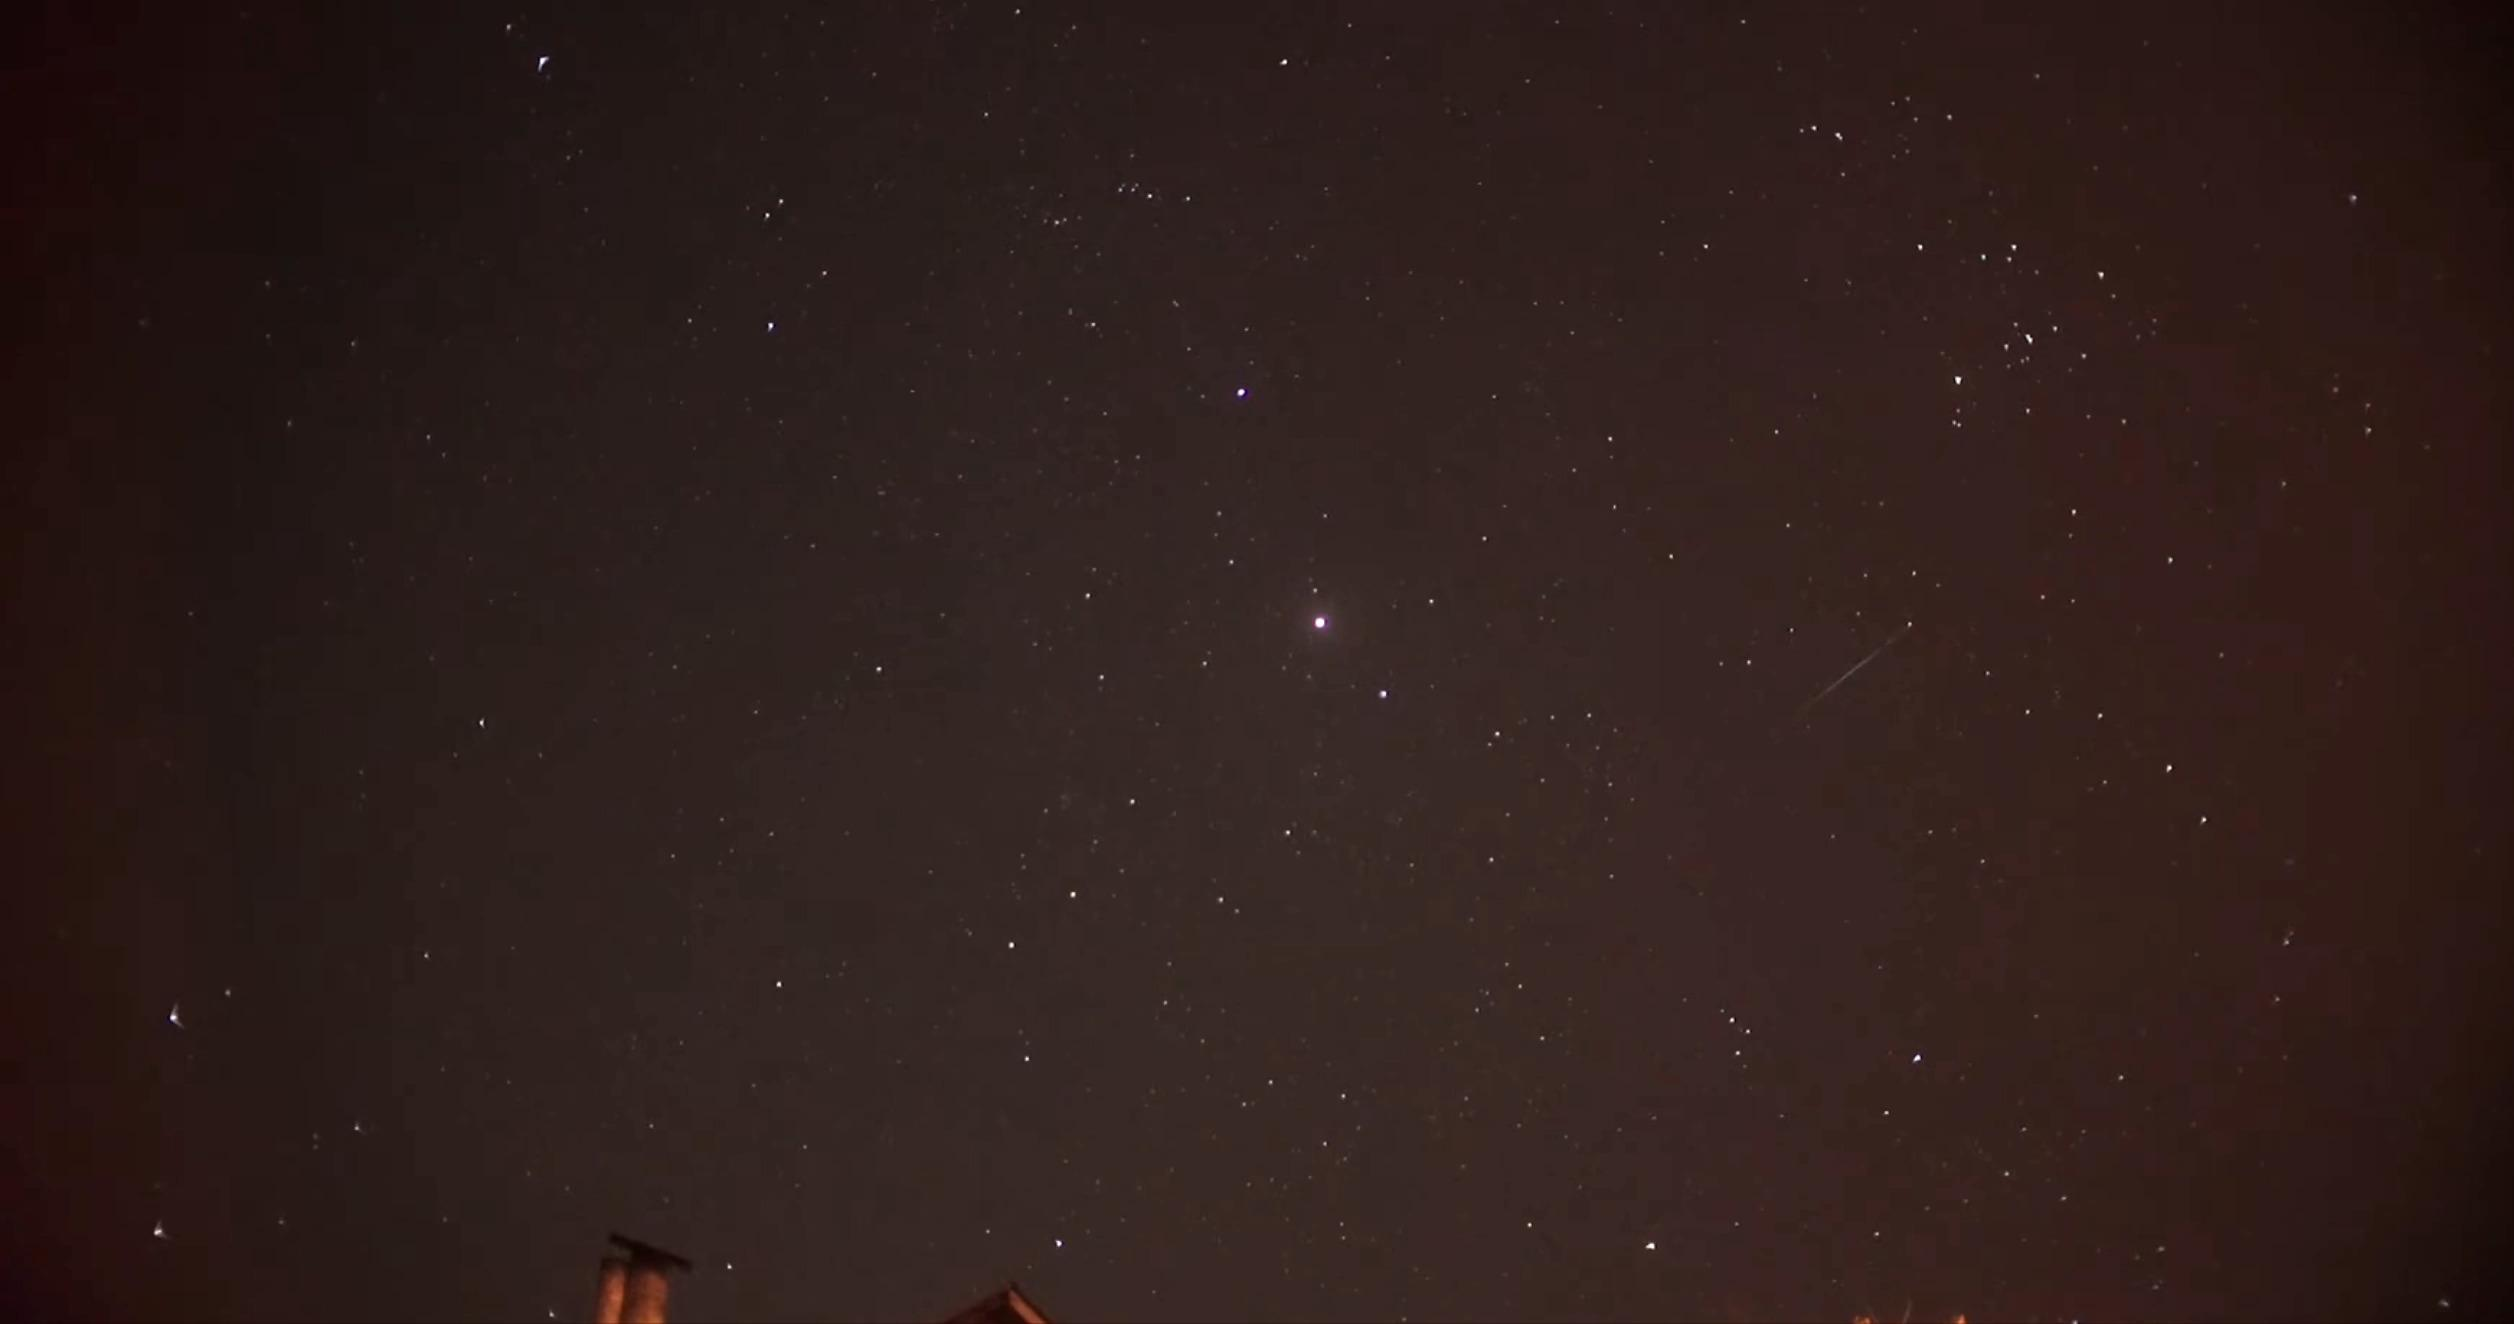meteorite: (1776, 634, 1917, 714)
